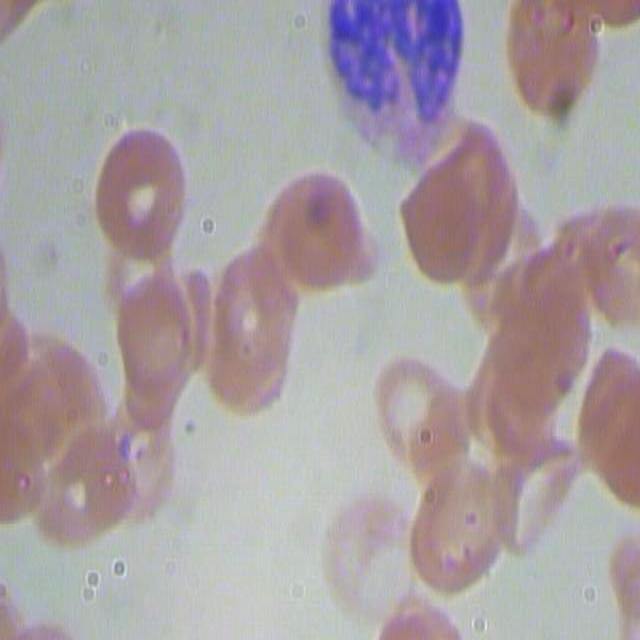RBC: (483, 281, 589, 446), (408, 146, 520, 266), (268, 173, 363, 296), (214, 263, 292, 412), (115, 275, 193, 424), (410, 468, 503, 587), (376, 364, 472, 476), (102, 134, 186, 249), (568, 206, 640, 336), (98, 390, 170, 519), (44, 434, 132, 537), (507, 0, 590, 109), (18, 347, 98, 456), (587, 349, 640, 509), (0, 403, 54, 512), (383, 594, 456, 640), (0, 306, 37, 396)
WBC: (328, 0, 461, 152)
